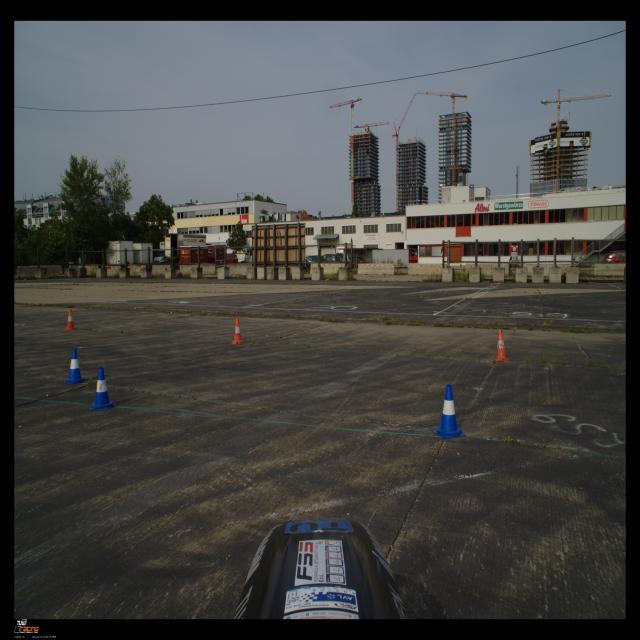blue_cone: (432, 384, 467, 439), (88, 368, 117, 410), (64, 348, 87, 384)
orange_cone: (494, 330, 510, 363), (231, 318, 245, 344), (64, 309, 77, 331)
